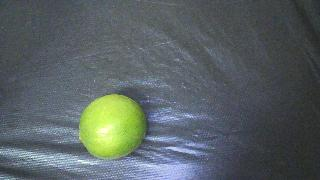LOCAL: (79, 94, 147, 159)
